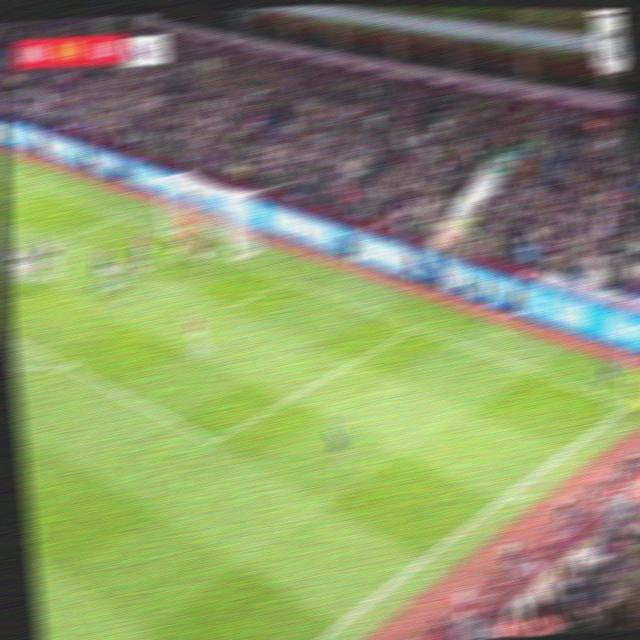bigarea_bottom_inner: (199, 428, 228, 455)
bigarea_bottom_outter: (401, 314, 425, 338)
bigarea_top_outter: (23, 179, 44, 198)
bottom_arc_area_intersection: (53, 357, 78, 373)
smallarea_bottom_inner: (214, 299, 243, 317)
smallarea_bottom_outter: (277, 272, 297, 289)
smallarea_top_inner: (51, 231, 75, 248)
smallarea_top_outter: (108, 210, 128, 225)
